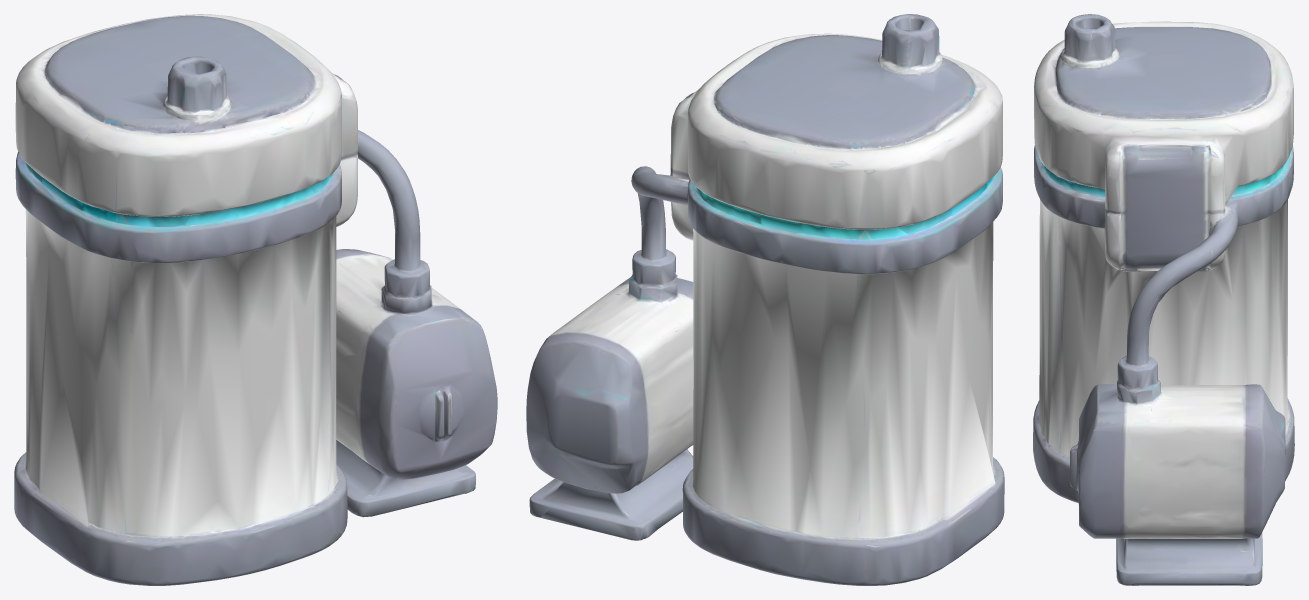
Rendered from decor_filter_pump.glb.
The picture shows the model from 3 angles, left to right: view 1: azimuth 30°, elevation 25°; view 2: azimuth 150°, elevation 25°; view 3: azimuth 270°, elevation 25°; orthographic projection. The views are drawn at different scales.
Visible parts, largest first — view 1: Mesh_0; view 2: Mesh_0; view 3: Mesh_0.
Boxes of the visible parts, box(x1,y1,x2,y2) form: Mesh_0: box(14, 14, 497, 585); Mesh_0: box(526, 14, 1004, 585); Mesh_0: box(1033, 14, 1294, 585).
Size of the model in its own units: 1.6 by 1.91 by 1.03.
1 material, 1 textured.
